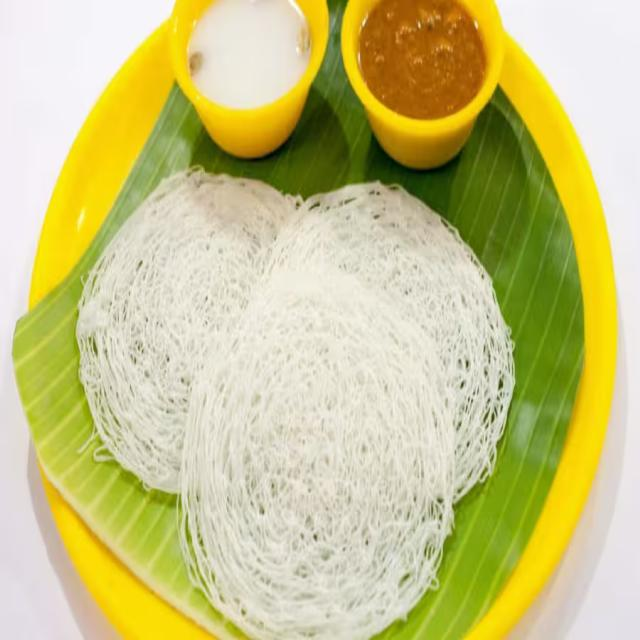IDIYAPPAM: (74, 165, 516, 639)
RED CHUTNEY: (356, 0, 489, 121)
SWEET: (186, 0, 311, 111)
